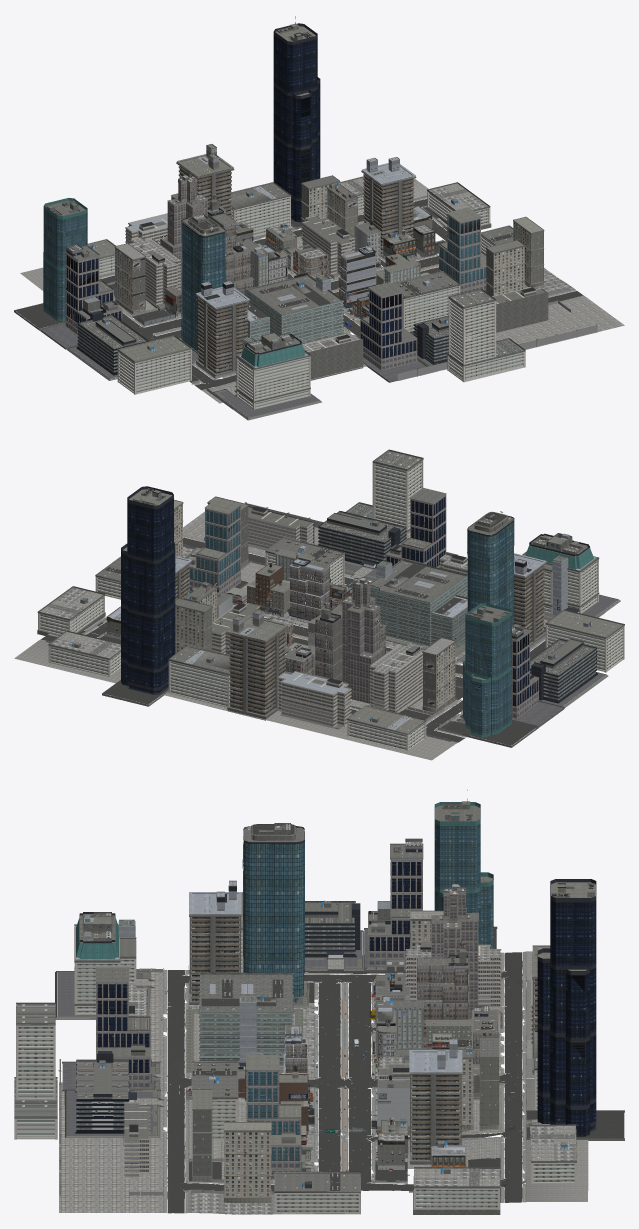
File: map.glb
The picture shows the model from 3 angles, top to bottom: view 1: azimuth 30°, elevation 25°; view 2: azimuth 150°, elevation 25°; view 3: azimuth 270°, elevation 25°; orthographic projection. The views are drawn at different scales.
Parts seen in each view (by area): view 1: Urban Sprawl 2; view 2: Urban Sprawl 2; view 3: Urban Sprawl 2.
Boxes of the visible parts, x1,y1,x2,y2 form: Urban Sprawl 2: [14, 16, 624, 420]; Urban Sprawl 2: [14, 449, 624, 760]; Urban Sprawl 2: [14, 789, 624, 1214].
Bounding box in the file's own units: 167 × 70.44 × 151.
Materials: 1057 (1041 with a texture image).
